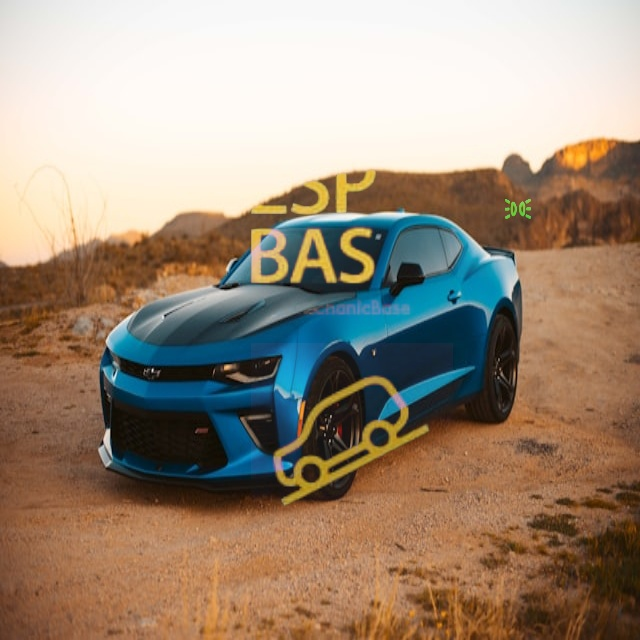symbol: (209, 116, 418, 325), (251, 343, 453, 545), (458, 155, 580, 277)
